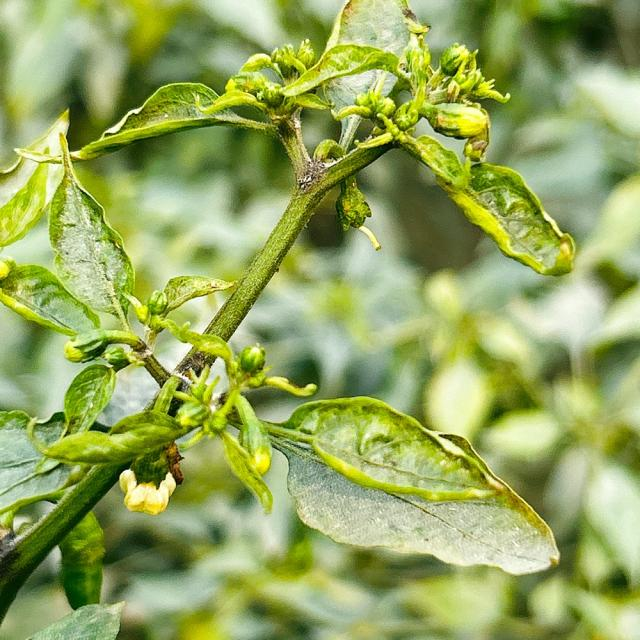Chilli_Leaf_Curl: (1, 1, 576, 625), (265, 394, 561, 576)
